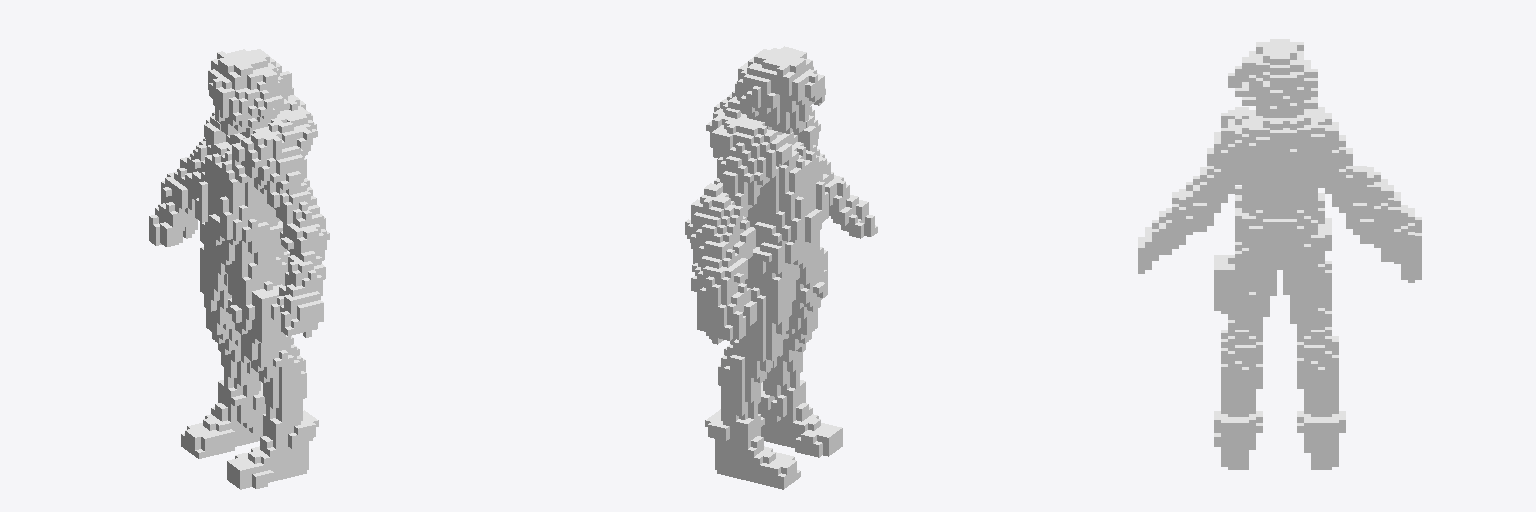
File: EnemyTemp.obj
3 views of the same model, side by side, from view 1: azimuth 30°, elevation 25°; view 2: azimuth 150°, elevation 25°; view 3: azimuth 270°, elevation 25° (orthographic).
Visible parts, largest first — view 1: object 1; view 2: object 1; view 3: object 1.
Part boxes in pixels (left/top/right/bottom): object 1: left=149, top=49, right=329, bottom=489; object 1: left=685, top=46, right=877, bottom=489; object 1: left=1138, top=39, right=1421, bottom=469.
Size of the model in its own units: 1.5 by 6.4 by 4.1.